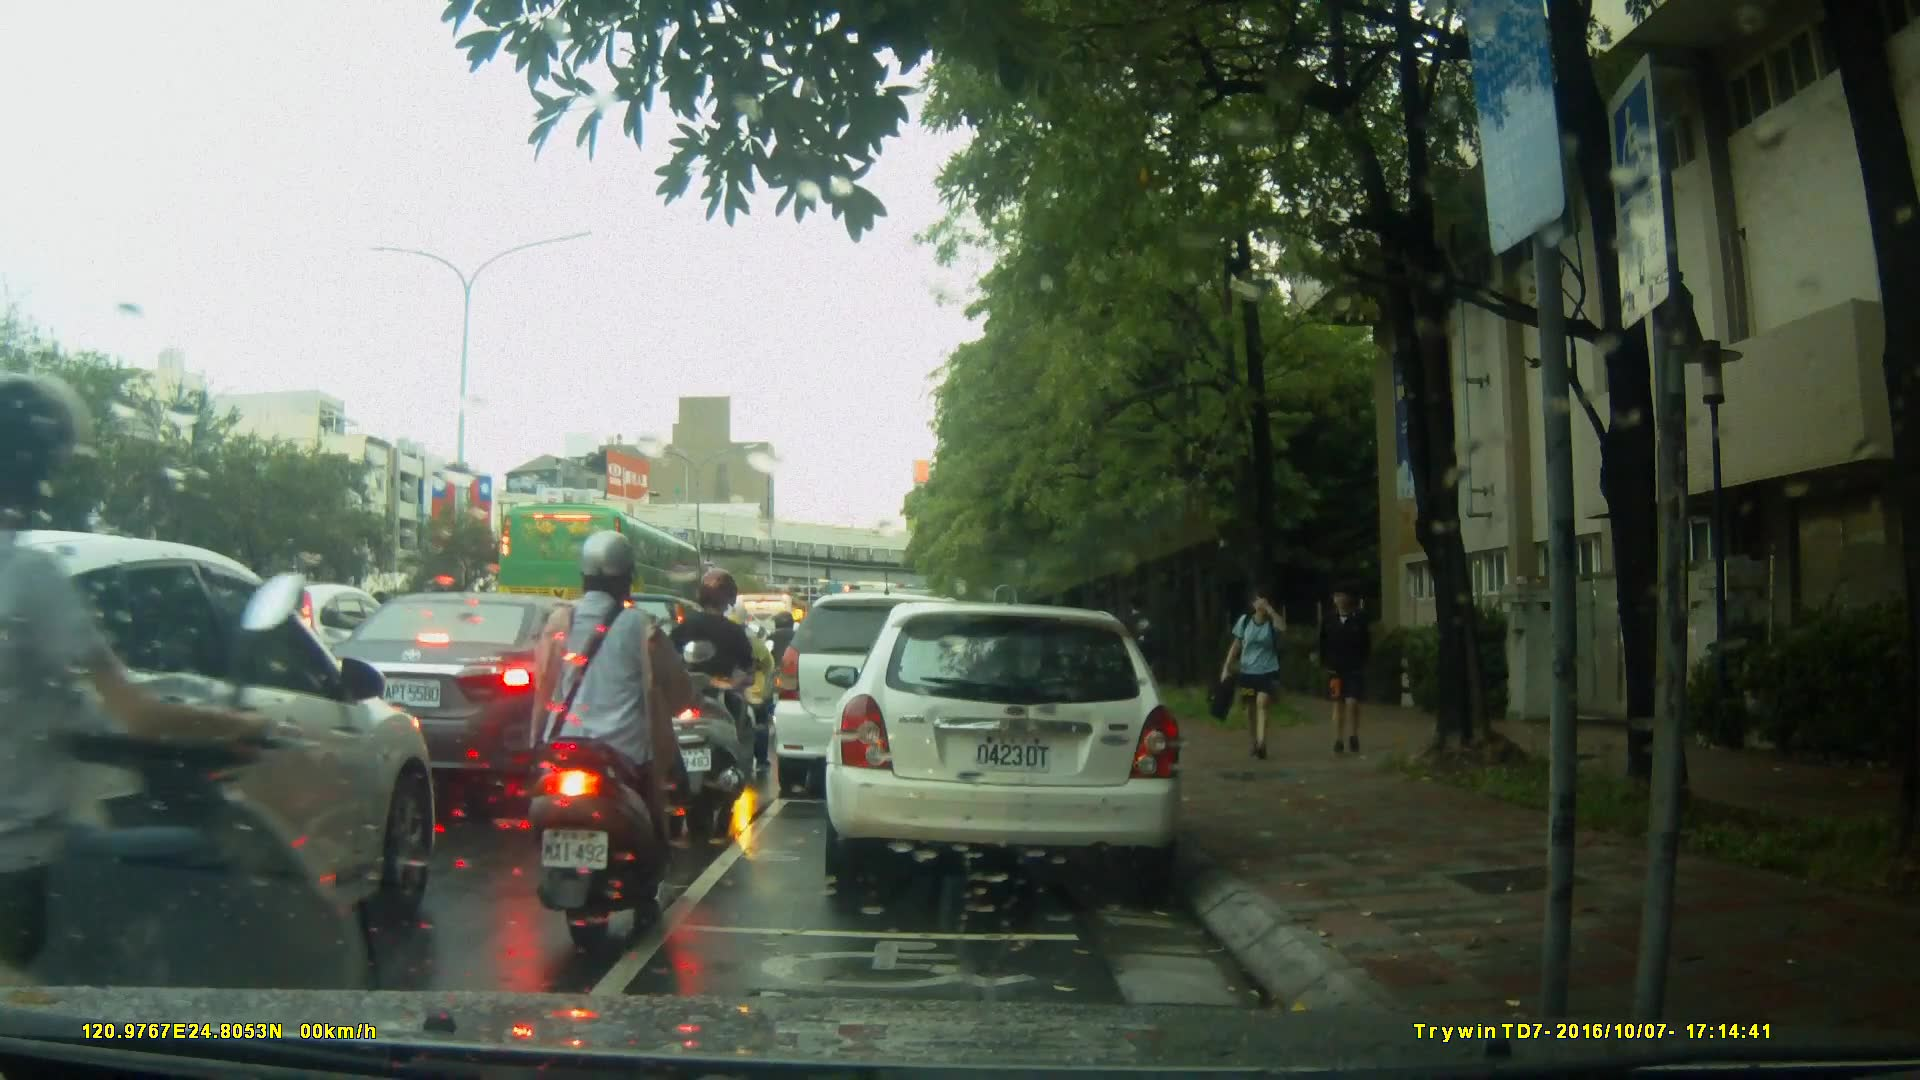pedestrian: (1210, 581, 1319, 763), (1315, 574, 1387, 764), (1123, 596, 1162, 722)
rider: (1, 394, 379, 1080), (525, 531, 685, 949), (652, 570, 753, 826), (707, 599, 772, 771), (758, 610, 812, 748)
vehicle: (1, 528, 446, 987), (831, 592, 1196, 897), (313, 590, 638, 806), (770, 591, 999, 802), (495, 500, 707, 637)
